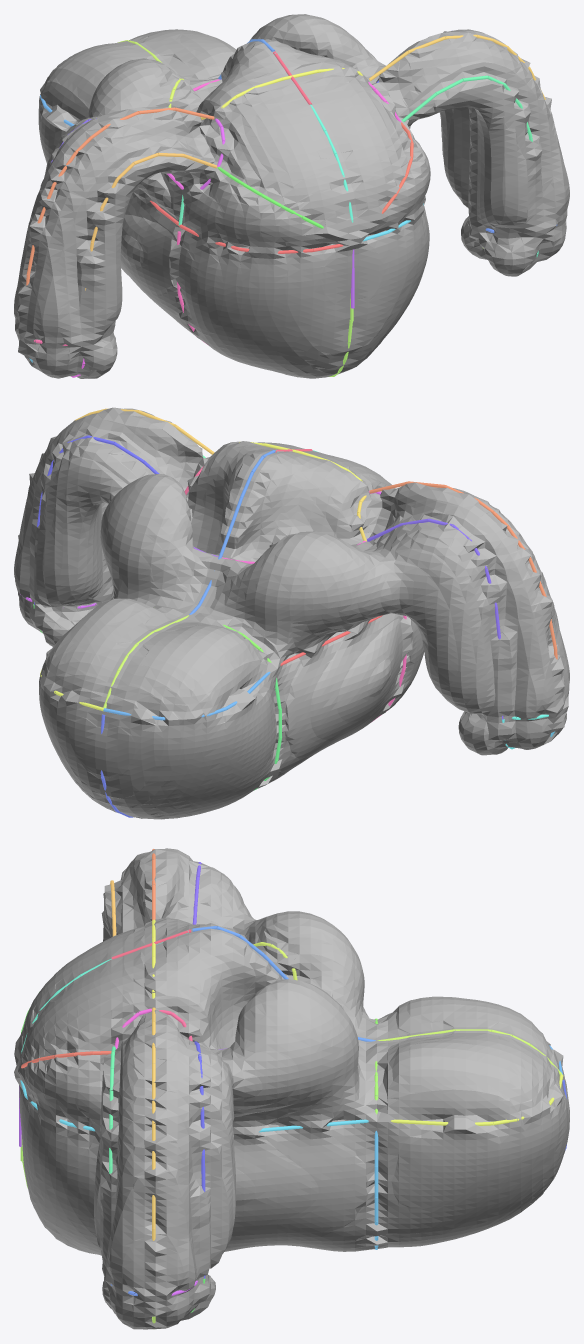
The model's file is scaffolds3d_dog.gltf.
3 renders of one model, top to bottom at view 1: azimuth 30°, elevation 25°; view 2: azimuth 150°, elevation 25°; view 3: azimuth 270°, elevation 25°, orthographic. The views are drawn at different scales.
Size of the model in its own units: 0.7357 by 0.3768 by 0.5966.
